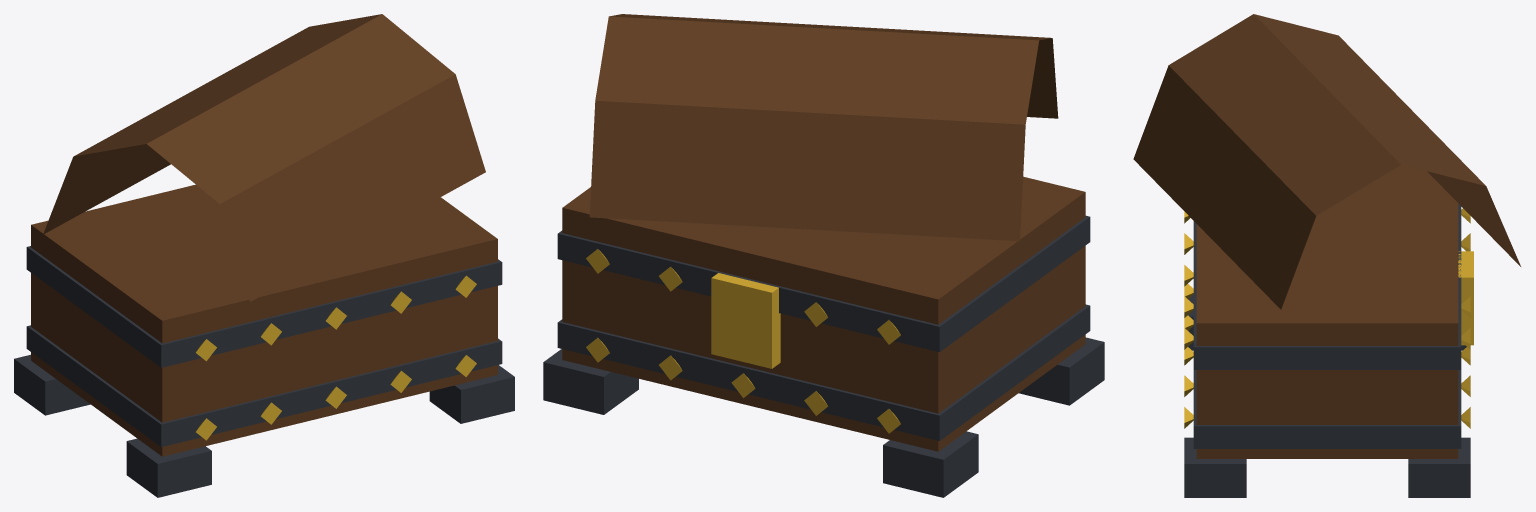
The model's file is dungeon_chest_variant_b.obj.
The picture shows the model from 3 angles, left to right: view 1: azimuth 30°, elevation 25°; view 2: azimuth 150°, elevation 25°; view 3: azimuth 270°, elevation 25°; orthographic projection. The views are drawn at different scales.
Parts seen in each view (by area): view 1: dungeon_chest_variant_b; view 2: dungeon_chest_variant_b; view 3: dungeon_chest_variant_b.
Boxes of the visible parts, box(x1,y1,x2,y2) form: dungeon_chest_variant_b: box(14, 14, 514, 497); dungeon_chest_variant_b: box(543, 14, 1104, 497); dungeon_chest_variant_b: box(1133, 14, 1520, 497).
Size of the model in its own units: 0.7328 by 0.57 by 0.6234.
